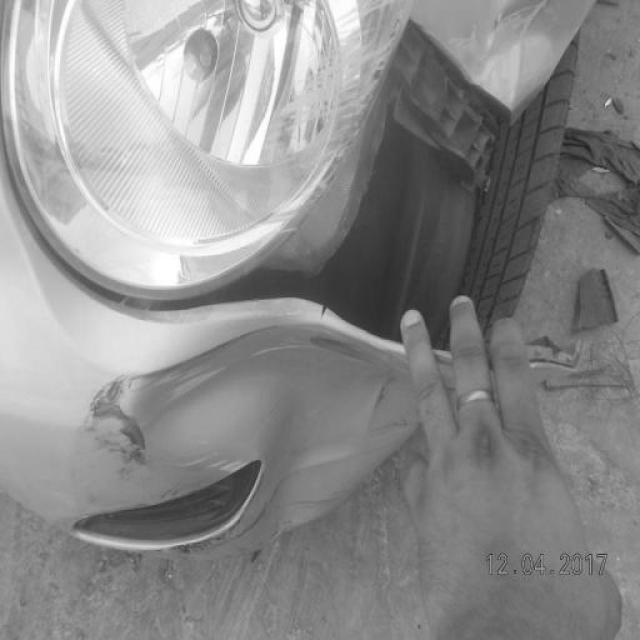crack: (267, 3, 412, 247)
dent: (447, 5, 578, 108)
scratch: (159, 470, 291, 562), (88, 375, 145, 470), (156, 346, 236, 397), (312, 330, 395, 377), (244, 337, 322, 368), (174, 449, 254, 476)
tear: (43, 21, 540, 383)
